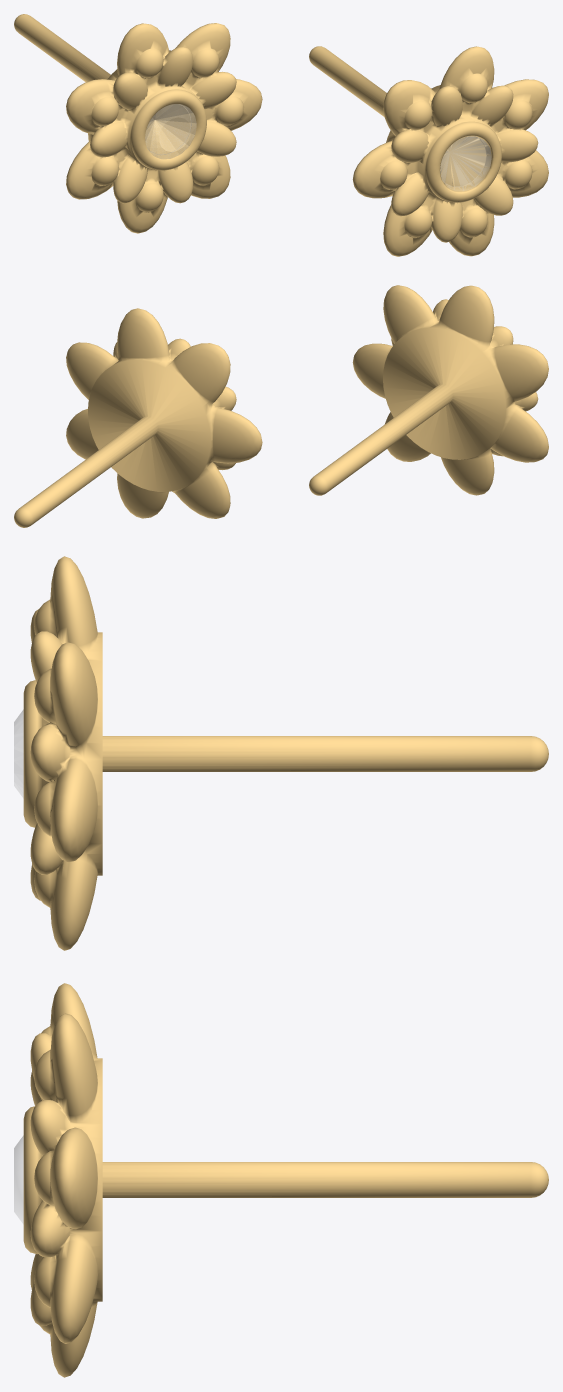
Rendered from earring_floral_stud.glb.
The picture shows the model from 3 angles, top to bottom: view 1: azimuth 30°, elevation 25°; view 2: azimuth 150°, elevation 25°; view 3: azimuth 270°, elevation 25°; orthographic projection. The views are drawn at different scales.
Visible parts, largest first — view 1: gold, gold_pair, fl_stone, fl_stone_pair; view 2: gold_pair, gold; view 3: gold, gold_pair.
Boxes of the visible parts, x1,y1,x2,y2 form: gold: [14, 14, 262, 233]; gold_pair: [309, 46, 548, 256]; fl_stone: [145, 104, 196, 158]; fl_stone_pair: [440, 136, 491, 190]; gold_pair: [14, 308, 262, 527]; gold: [309, 285, 548, 495]; gold: [23, 556, 548, 950]; gold_pair: [23, 983, 548, 1377].
Size of the model in its own units: 0.0212 by 0.0131 by 0.0119.
